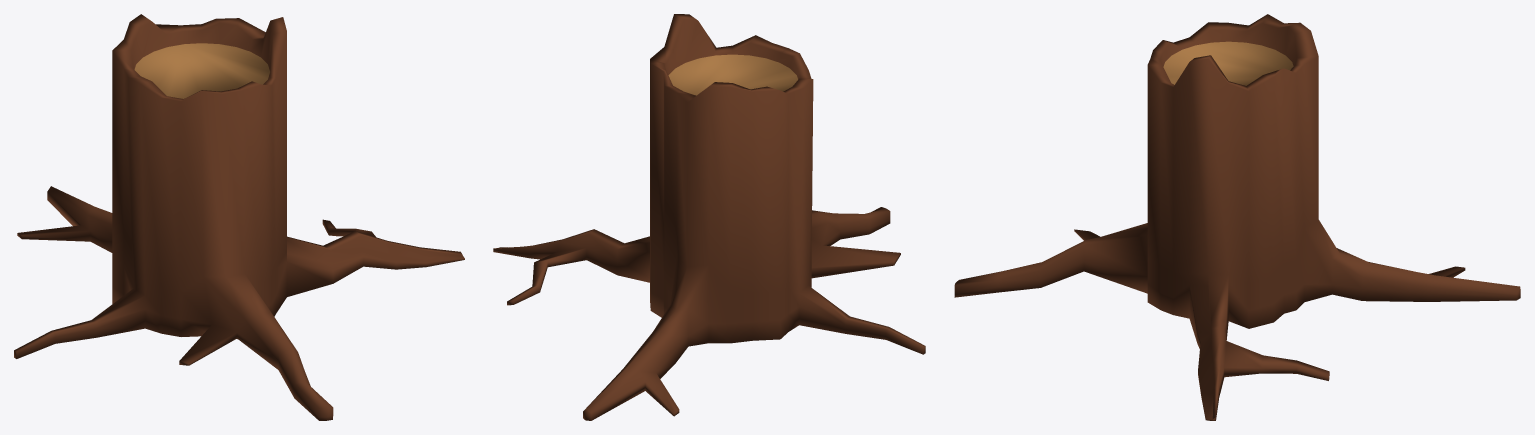
File: kanto.fbx
3 views of the same model, side by side, from view 1: azimuth 30°, elevation 25°; view 2: azimuth 150°, elevation 25°; view 3: azimuth 270°, elevation 25° (orthographic). The views are drawn at different scales.
Visible parts, largest first — view 1: Cylinder; view 2: Cylinder; view 3: Cylinder.
Part boxes in pixels (<box>): Cylinder: <box>14,14,464,420</box>; Cylinder: <box>493,14,925,420</box>; Cylinder: <box>954,14,1520,420</box>.
Size of the model in its own units: 132 by 81.27 by 150.
